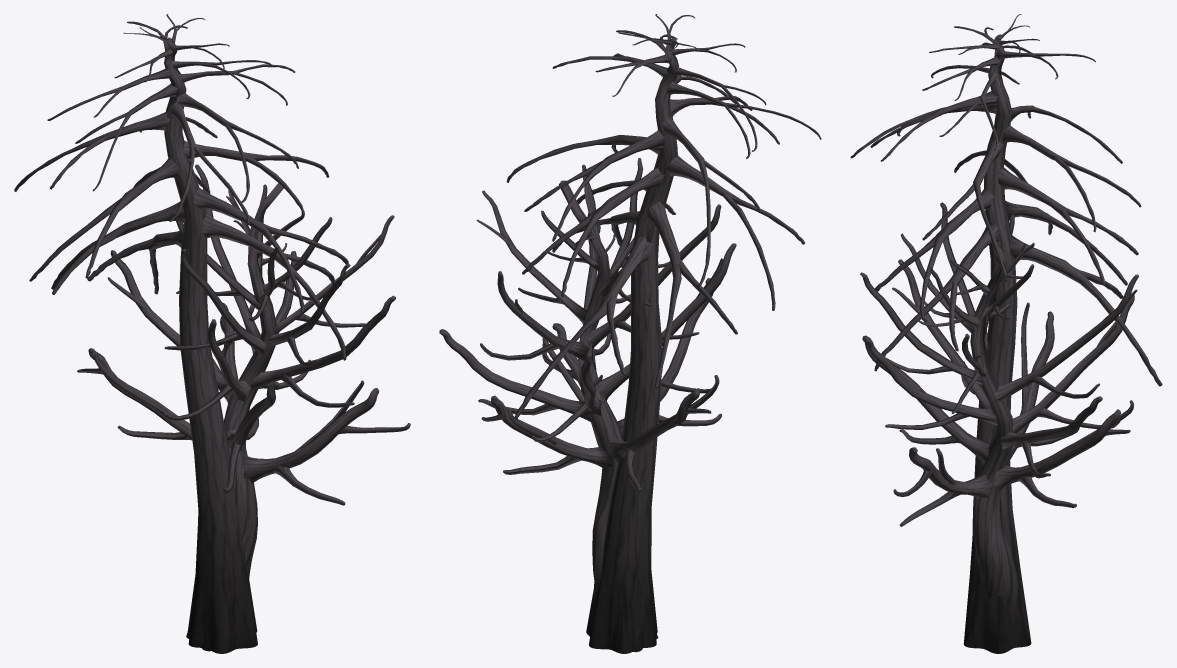
Rendered from megakit-deadtrees.glb.
The picture shows the model from 3 angles, left to right: view 1: azimuth 30°, elevation 25°; view 2: azimuth 150°, elevation 25°; view 3: azimuth 270°, elevation 25°; orthographic projection. The views are drawn at different scales.
Parts seen in each view (by area): view 1: DeadTree_3, DeadTree_1; view 2: DeadTree_3, DeadTree_1; view 3: DeadTree_1, DeadTree_3.
Part boxes in pixels (<box>): DeadTree_3: <box>14,14,348,653</box>; DeadTree_1: <box>77,164,410,651</box>; DeadTree_3: <box>506,14,821,653</box>; DeadTree_1: <box>439,158,736,652</box>; DeadTree_1: <box>860,202,1138,615</box>; DeadTree_3: <box>850,14,1162,653</box>.
Bounding box in the file's own units: 7.4 × 13.28 × 6.43.
1 material, 1 textured.
